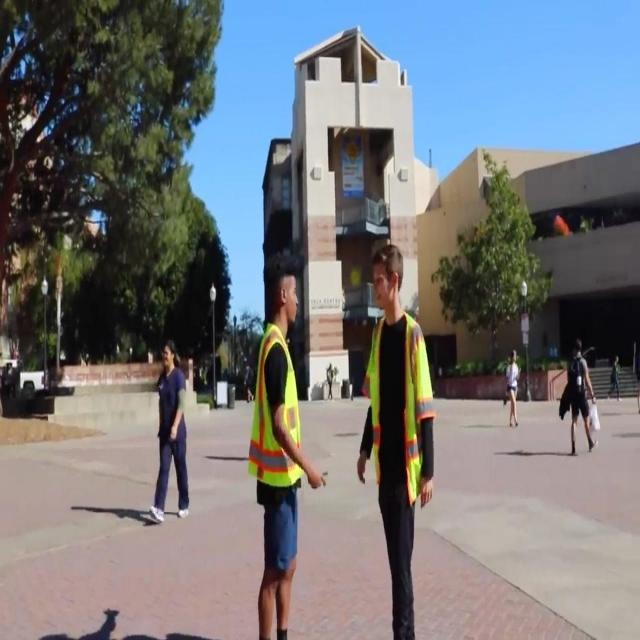reflective_jacket: (363, 310, 437, 510), (243, 324, 307, 500)
